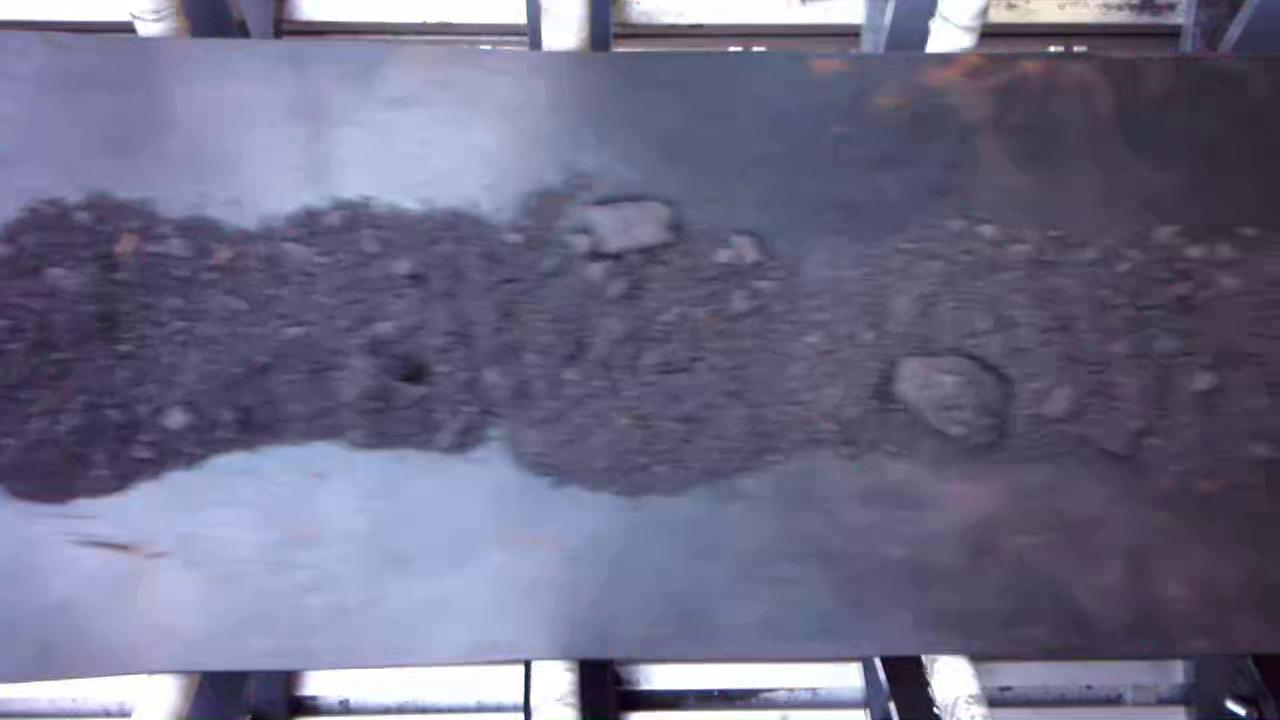conveyor: (17, 70, 1271, 636)
